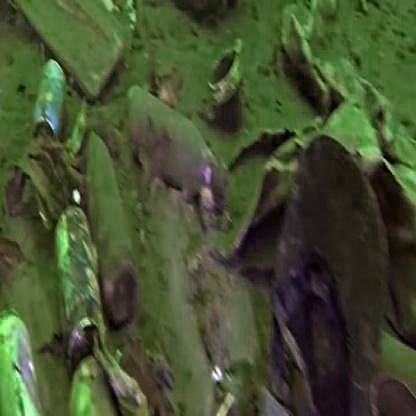can: (59, 196, 104, 362), (34, 37, 70, 166)
gbottle: (118, 78, 242, 228), (79, 125, 141, 331)
